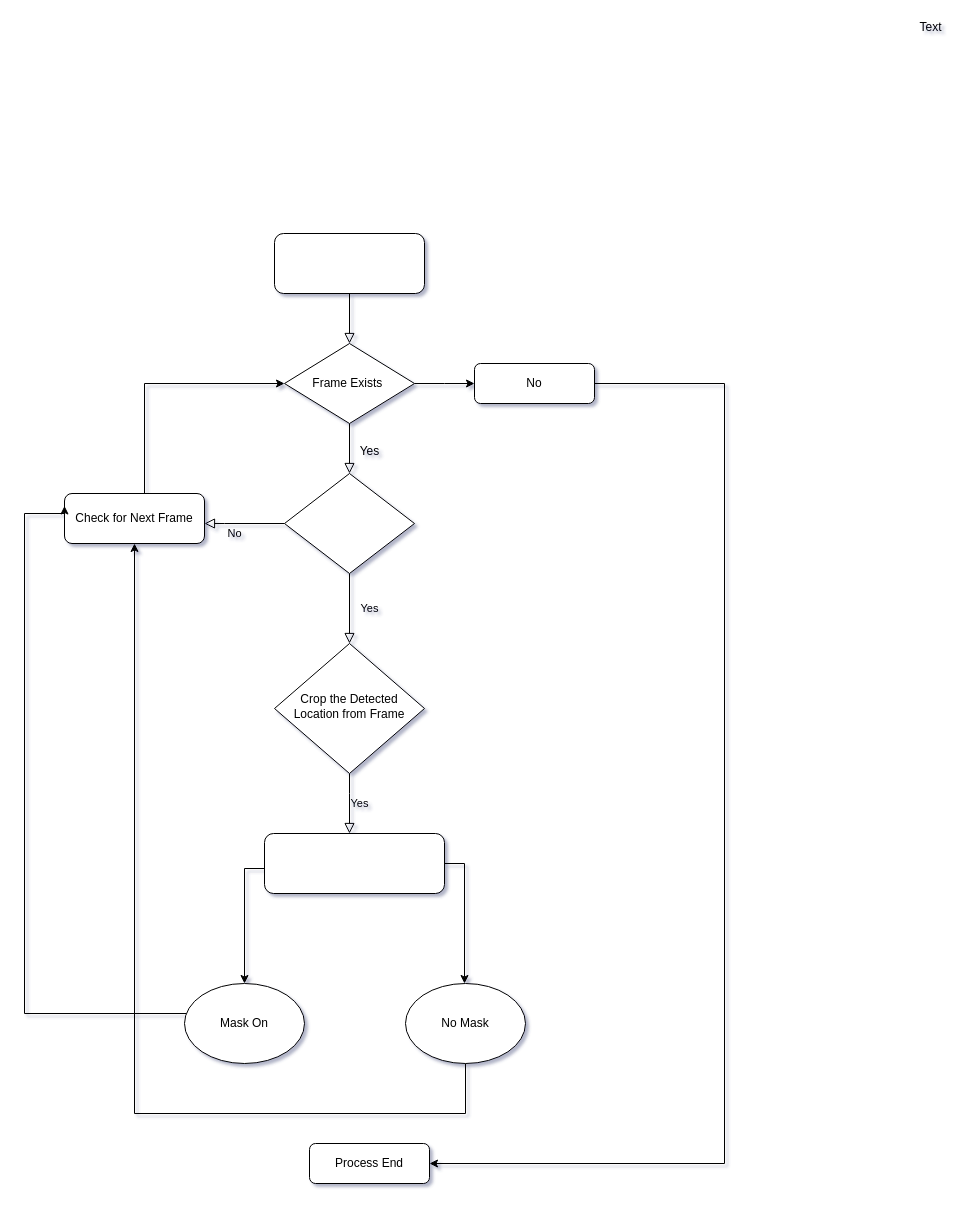
Some shapes in this 974 by 1207 pixel diagram are drawn without their labels. Each missing label, with the box of its shape:
MTCNN Face Detector: (284, 472, 414, 574)
Pass the cropped frame to the Trained Model for Classification: (264, 832, 444, 894)
Video/Camera Input: (274, 232, 424, 294)
